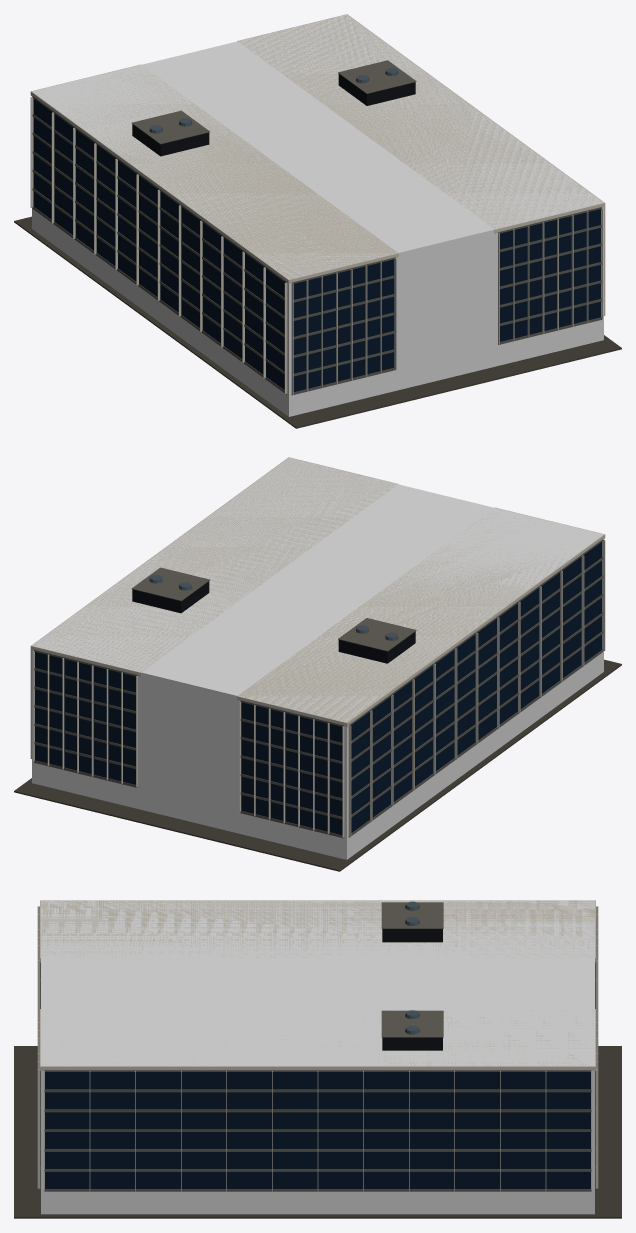
File: B44_sez_tech_office.glb
3 renders of one model, top to bottom at view 1: azimuth 30°, elevation 25°; view 2: azimuth 150°, elevation 25°; view 3: azimuth 270°, elevation 25°, orthographic. The views are drawn at different scales.
Visible parts, largest first — view 1: LOD0, COL_Main; view 2: LOD0, COL_Main; view 3: LOD0, COL_Main.
Part boxes in pixels (bbox=[...]): LOD0: bbox=[14, 14, 621, 428]; COL_Main: bbox=[32, 15, 603, 416]; LOD0: bbox=[14, 457, 621, 871]; COL_Main: bbox=[32, 458, 603, 859]; LOD0: bbox=[14, 900, 621, 1218]; COL_Main: bbox=[41, 900, 594, 1214].
Size of what is drawn, in the model's own units: 60 by 27.2 by 90.
